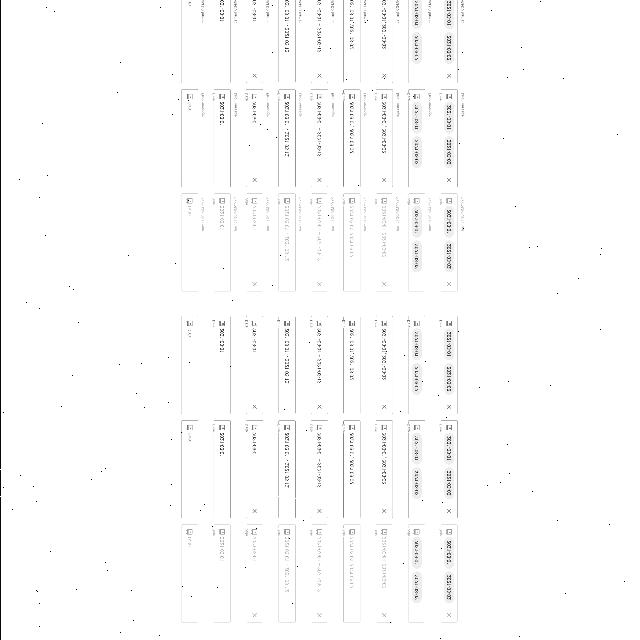VInlineDatepicker: (438, 88, 464, 188), (276, 192, 302, 292), (308, 192, 334, 292), (180, 88, 204, 188), (179, 192, 203, 292), (212, 192, 236, 292), (342, 192, 366, 292), (407, 192, 431, 292), (440, 192, 464, 292), (212, 89, 236, 188), (244, 89, 268, 188), (276, 89, 300, 188), (309, 89, 333, 188), (342, 89, 366, 188), (374, 89, 398, 188), (407, 89, 431, 188), (244, 194, 268, 292), (374, 194, 398, 292), (210, 0, 236, 84), (243, 0, 269, 84), (308, 0, 334, 84), (340, 0, 366, 84), (438, 0, 464, 84), (180, 0, 204, 84), (277, 0, 301, 84), (374, 0, 398, 84), (407, 0, 431, 84), (211, 524, 231, 624), (244, 315, 264, 415), (276, 524, 296, 624), (308, 523, 328, 623), (374, 524, 394, 624), (406, 315, 426, 415), (438, 419, 458, 519), (211, 419, 231, 518), (276, 419, 296, 518), (374, 419, 394, 518), (406, 419, 426, 518), (276, 316, 296, 414), (308, 316, 328, 414), (374, 316, 394, 414), (406, 524, 426, 622), (438, 316, 458, 414), (438, 524, 458, 622), (342, 419, 361, 519), (342, 524, 361, 624), (342, 316, 361, 414), (180, 524, 198, 624), (180, 419, 198, 518), (244, 419, 262, 518), (310, 419, 328, 518), (180, 316, 198, 414), (212, 316, 230, 414), (244, 524, 262, 622)
